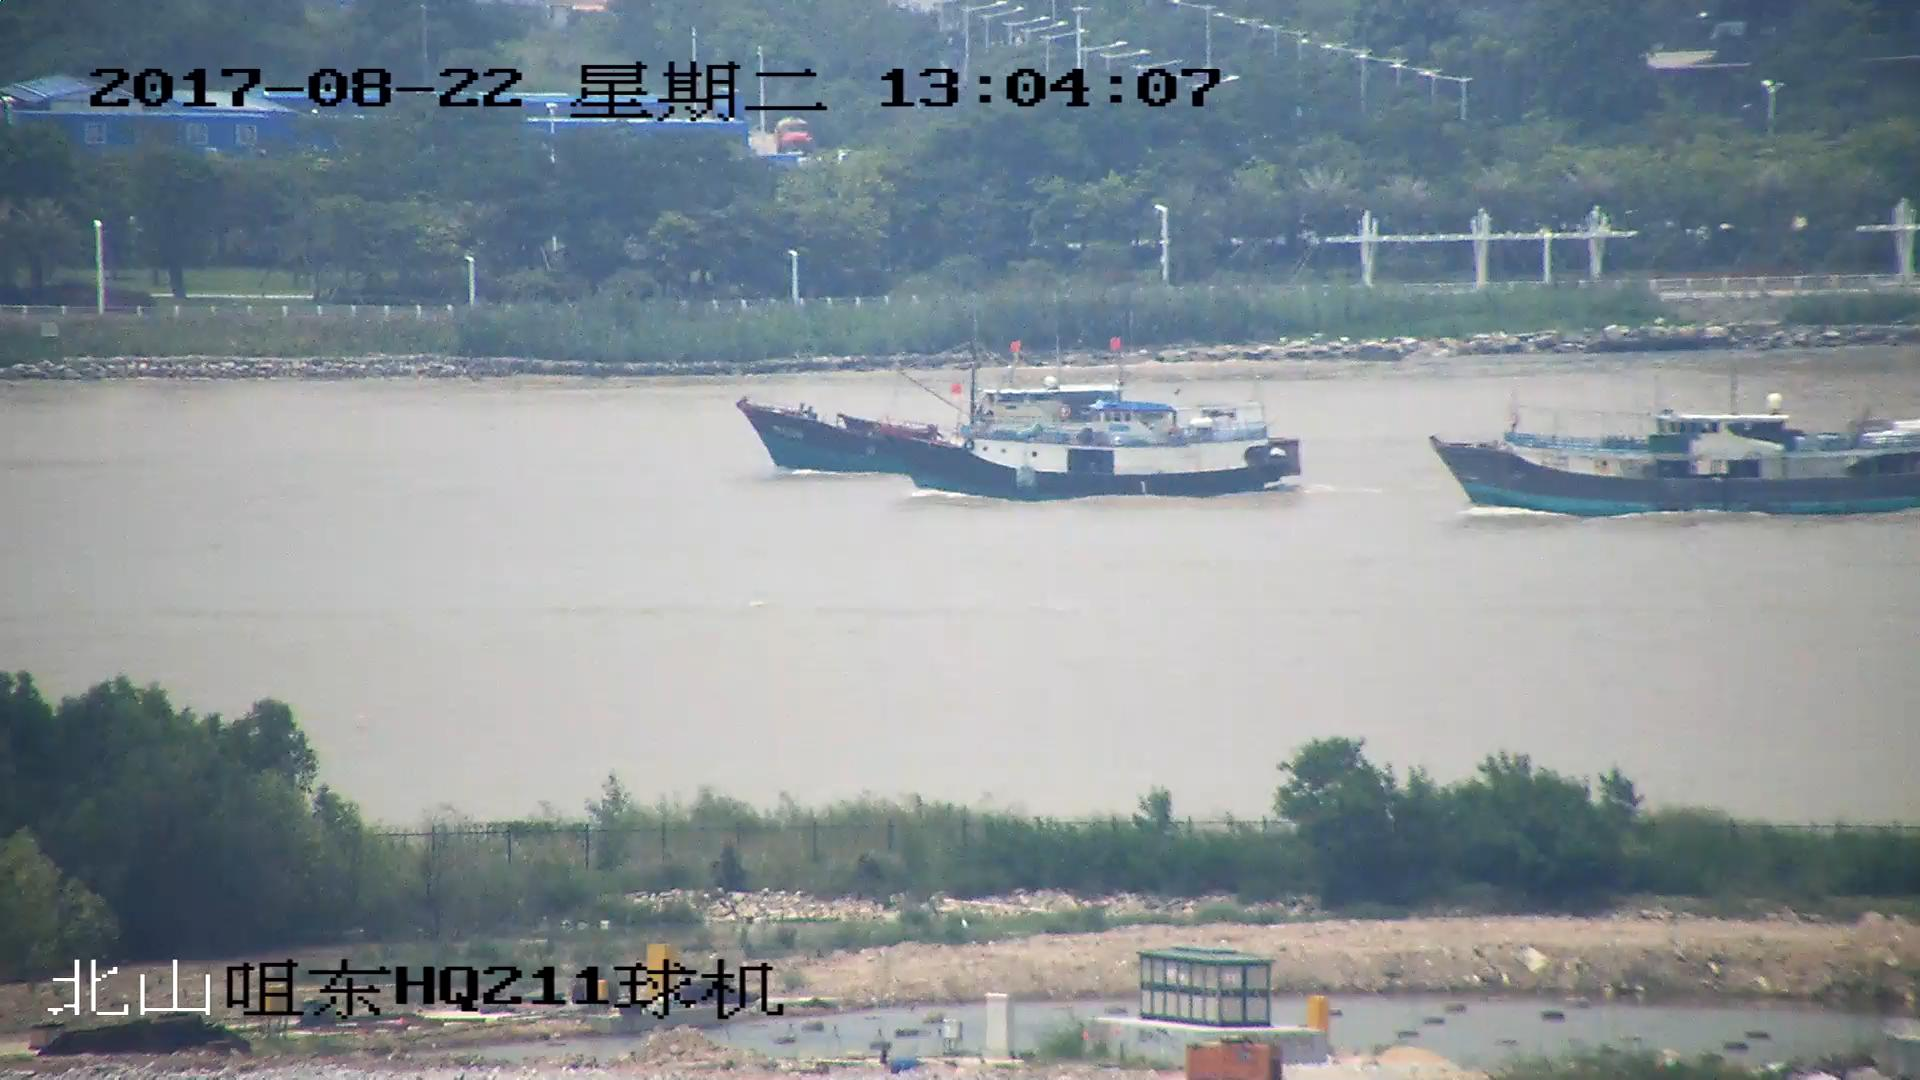fishing boat: (1433, 397, 1920, 516), (882, 393, 1299, 503), (742, 374, 1182, 476)
